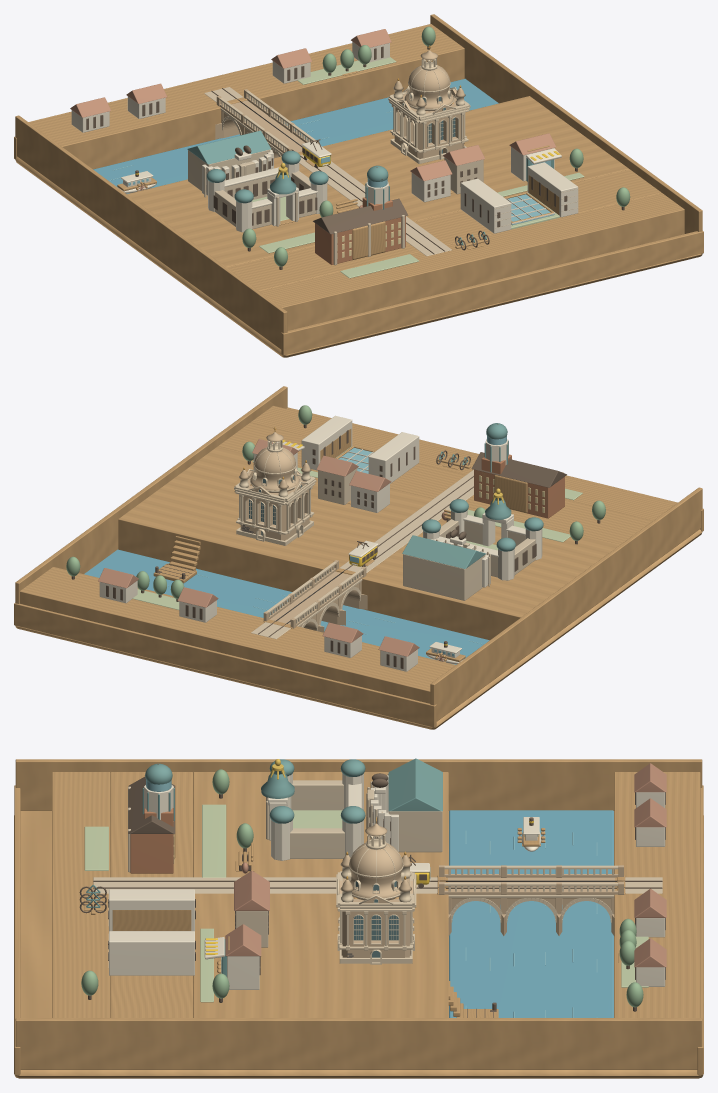
File: dresden-river-campus.glb
3 renders of one model, top to bottom at view 1: azimuth 30°, elevation 25°; view 2: azimuth 150°, elevation 25°; view 3: azimuth 270°, elevation 25°, orthographic. The views are drawn at different scales.
Visible parts, largest first — view 1: fixed_world_Ash / fine original grain, Blue river inlay, fixed_world_Pale meadow, fixed_world_Warm sandstone, piece_augustus_bridge_R Elbe sandstone, Stone library block, piece_zwinger_galleries_Carved pale stone, piece_zwinger_galleries_Warm sandstone, piece_beyer_body_Beyer brick, Church chamfered masonry core, piece_frauenkirche_dome_R Elbe sandstone, Steep Beyer roof (+22 smaller); view 2: fixed_world_Ash / fine original grain, Blue river inlay, piece_augustus_bridge_R Elbe sandstone, fixed_world_Warm sandstone, piece_semperoper_Warm sandstone, piece_beyer_body_Beyer brick, Stone library block, Church chamfered masonry core, Facade bay.002_R cut sandstone, piece_frauenkirche_dome_R Elbe sandstone, piece_zwinger_galleries_Carved pale stone, piece_augustus_bridge_R cut sandstone (+15 smaller); view 3: fixed_world_Ash / fine original grain, Blue river inlay, piece_augustus_bridge_R Elbe sandstone, fixed_world_Pale meadow, Stone library block.001, fixed_world_Warm sandstone, piece_augustus_bridge_R cut sandstone, piece_zwinger_galleries_Warm sandstone, Facade bay.001_R cut sandstone, Opera stage roof, piece_frauenkirche_dome_R Elbe sandstone, piece_semperoper_Warm sandstone (+29 smaller).
Part boxes in pixels (x1,y1,x2,y2): fixed_world_Ash / fine original grain: [14, 14, 703, 357]; Blue river inlay: [93, 78, 498, 193]; fixed_world_Pale meadow: [259, 57, 584, 278]; fixed_world_Warm sandstone: [204, 87, 451, 256]; piece_augustus_bridge_R Elbe sandstone: [215, 89, 318, 158]; Stone library block: [460, 178, 511, 233]; piece_zwinger_galleries_Carved pale stone: [208, 162, 327, 232]; piece_zwinger_galleries_Warm sandstone: [214, 171, 316, 229]; piece_beyer_body_Beyer brick: [315, 197, 405, 264]; Church chamfered masonry core: [394, 94, 463, 158]; piece_frauenkirche_dome_R Elbe sandstone: [405, 50, 453, 111]; Steep Beyer roof: [313, 198, 408, 234]; fixed_world_Ash / fine original grain: [14, 386, 703, 729]; Blue river inlay: [84, 549, 489, 664]; piece_augustus_bridge_R Elbe sandstone: [263, 560, 367, 632]; fixed_world_Warm sandstone: [251, 470, 473, 639]; piece_semperoper_Warm sandstone: [403, 539, 490, 600]; piece_beyer_body_Beyer brick: [474, 454, 564, 518]; Stone library block: [368, 432, 419, 483]; Church chamfered masonry core: [240, 476, 309, 540]; Facade bay.002_R cut sandstone: [235, 486, 285, 545]; piece_frauenkirche_dome_R Elbe sandstone: [250, 432, 299, 492]; piece_zwinger_galleries_Carved pale stone: [423, 510, 542, 580]; piece_augustus_bridge_R cut sandstone: [266, 562, 363, 630]; fixed_world_Ash / fine original grain: [14, 759, 703, 1078]; Blue river inlay: [449, 810, 613, 1017]; piece_augustus_bridge_R Elbe sandstone: [439, 865, 623, 935]; fixed_world_Pale meadow: [84, 804, 648, 1002]; Stone library block.001: [109, 931, 194, 975]; fixed_world_Warm sandstone: [93, 877, 662, 893]; piece_augustus_bridge_R cut sandstone: [444, 865, 618, 922]; piece_zwinger_galleries_Warm sandstone: [290, 780, 344, 858]; Facade bay.001_R cut sandstone: [340, 895, 412, 964]; Opera stage roof: [388, 758, 442, 811]; piece_frauenkirche_dome_R Elbe sandstone: [349, 823, 402, 900]; piece_semperoper_Warm sandstone: [366, 773, 442, 852].
Bounding box in the file's own units: 18 × 5.76 × 20.
Materials: 20 (1 with a texture image).
